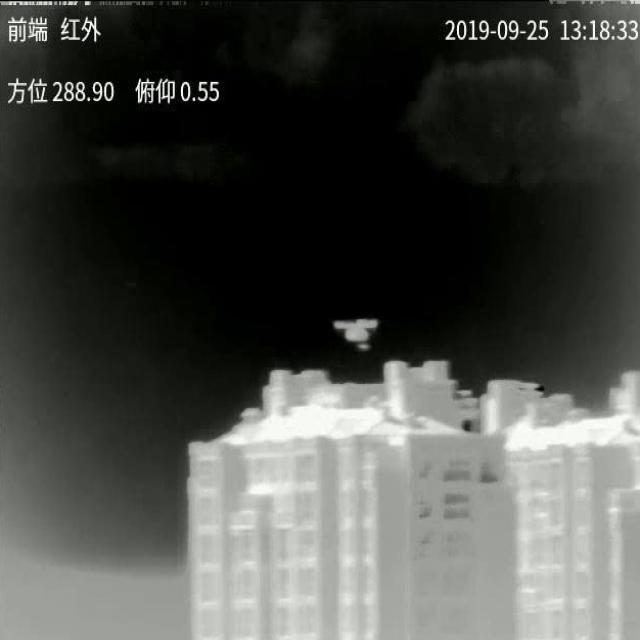drone: (333, 319, 378, 350)
